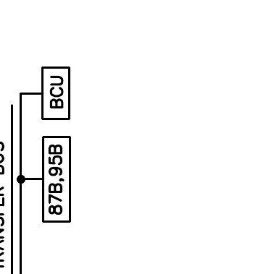BCU: (41, 66, 71, 121)
